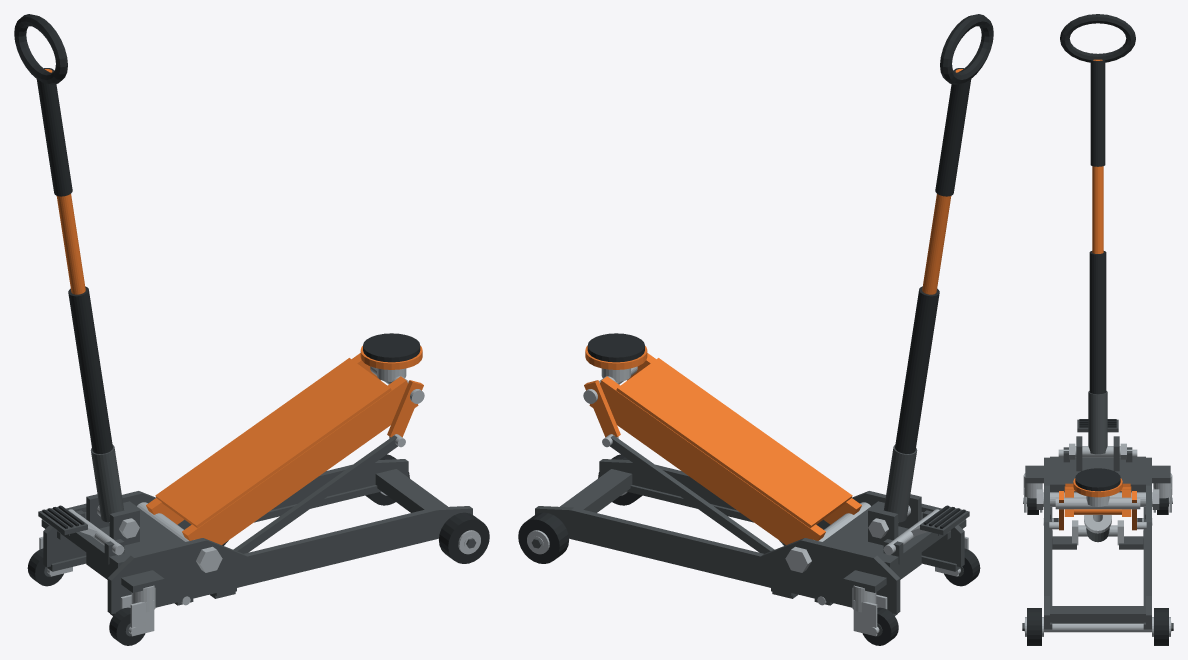
The picture shows the model from 3 angles, left to right: view 1: azimuth 30°, elevation 25°; view 2: azimuth 150°, elevation 25°; view 3: azimuth 270°, elevation 25°; orthographic projection. The views are drawn at different scales.
Visible parts, largest first — view 1: Arm crown plate, Chassis rail -1, Lifting channel wall -1, Handle protective sleeve, Chassis rail 1, Rear bridge, Leveling link -1, Handle upper sleeve, Closed D grip, Front crossmember, Front wheel -1, Handle lower socket (+8 smaller); view 2: Arm crown plate, Chassis rail 1, Lifting channel wall 1, Handle protective sleeve, Chassis rail -1, Rear bridge, Leveling link 1, Handle upper sleeve, Closed D grip, Front crossmember, Front wheel 1, Handle lower socket (+8 smaller); view 3: Handle protective sleeve, Rear bridge, Front crossmember, Handle upper sleeve, Closed D grip, Handle lower socket, Handle stem, Chassis rail -1, Chassis rail 1, Front through axle, Saddle rubber pad, Saddle hinge axle (+17 smaller).
Boxes of the visible parts, box(x1,y1,x2,y2) form: Arm crown plate: box(155, 358, 391, 528); Chassis rail -1: box(107, 506, 472, 614); Lifting channel wall -1: box(182, 376, 418, 544); Handle protective sleeve: box(68, 286, 112, 453); Chassis rail 1: box(43, 459, 408, 567); Rear bridge: box(57, 501, 184, 571); Leveling link -1: box(233, 435, 397, 553); Handle upper sleeve: box(36, 68, 72, 196); Closed D grip: box(14, 14, 67, 84); Front crossmember: box(375, 469, 447, 512); Front wheel -1: box(439, 512, 489, 563); Handle lower socket: box(90, 445, 124, 522); Arm crown plate: box(616, 358, 852, 528); Chassis rail 1: box(535, 506, 900, 614); Lifting channel wall 1: box(589, 376, 825, 544); Handle protective sleeve: box(895, 286, 939, 453); Chassis rail -1: box(599, 459, 964, 567); Rear bridge: box(823, 501, 950, 571); Leveling link 1: box(610, 435, 774, 553); Handle upper sleeve: box(935, 68, 971, 196); Closed D grip: box(940, 14, 993, 84); Front crossmember: box(560, 469, 632, 512); Front wheel 1: box(518, 512, 568, 563); Handle lower socket: box(883, 445, 917, 522); Handle protective sleeve: box(1089, 251, 1106, 394); Rear bridge: box(1050, 456, 1145, 492); Front crossmember: box(1050, 606, 1145, 623); Handle upper sleeve: box(1090, 59, 1105, 166); Closed D grip: box(1060, 14, 1135, 62); Handle lower socket: box(1088, 391, 1107, 454); Handle stem: box(1092, 59, 1103, 253); Chassis rail -1: box(1044, 457, 1049, 629); Chassis rail 1: box(1146, 457, 1151, 629); Front through axle: box(1024, 622, 1171, 632); Saddle rubber pad: box(1075, 468, 1120, 491); Saddle hinge axle: box(1055, 497, 1140, 509).
Size of the model in its own units: 0.9055 by 1.28 by 0.364.
